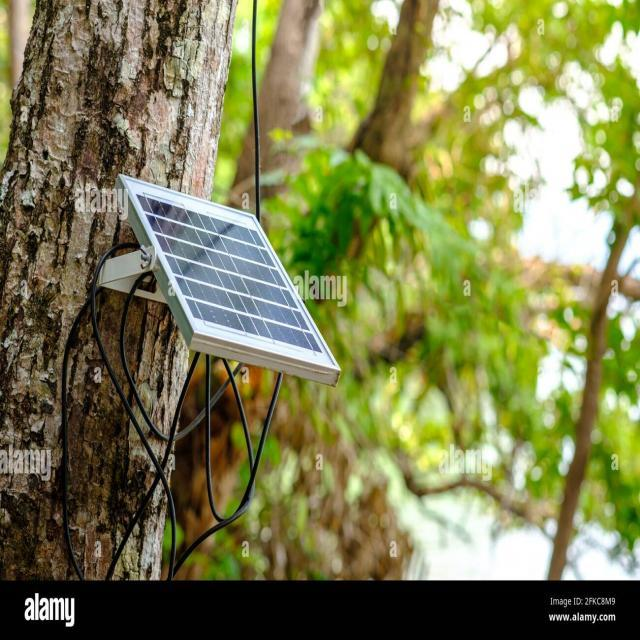no faulty: (126, 187, 346, 368)
